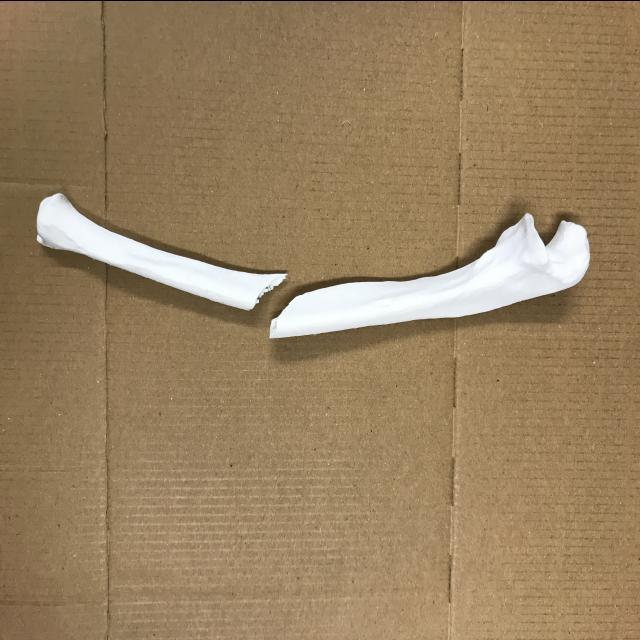bone: (266, 208, 594, 352), (29, 180, 289, 324)
